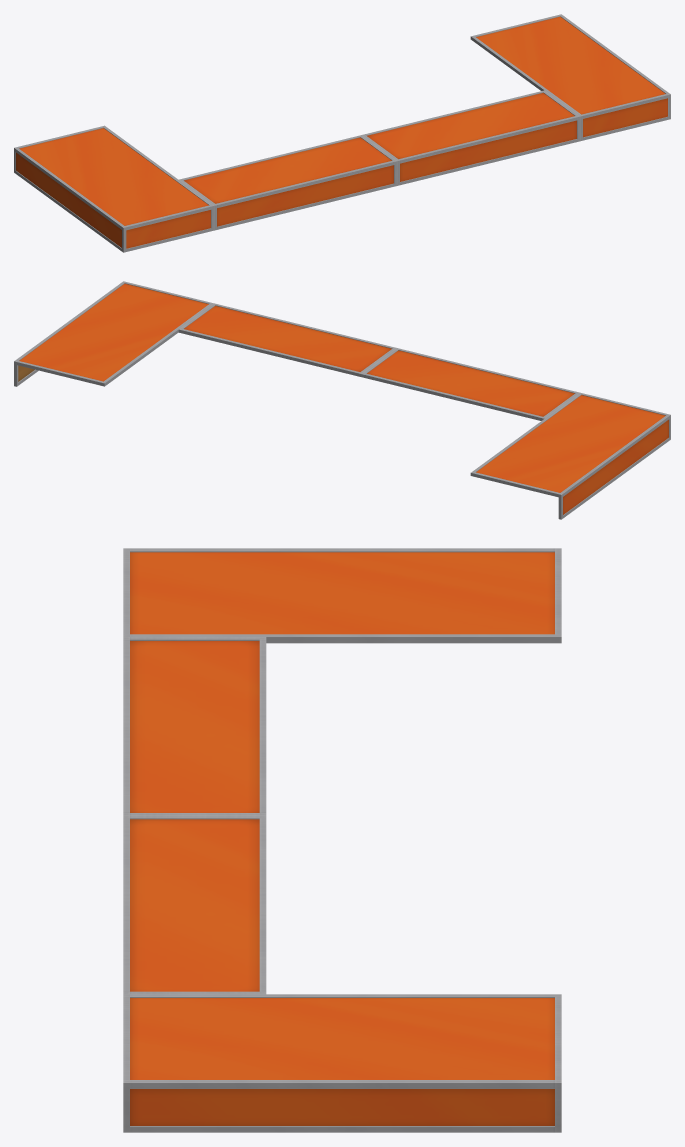
The model's file is jsf_2P_s03_c01_t04_DX.fbx.
3 renders of one model, top to bottom at view 1: azimuth 30°, elevation 25°; view 2: azimuth 150°, elevation 25°; view 3: azimuth 270°, elevation 25°, orthographic. The views are drawn at different scales.
Parts seen in each view (by area): view 1: jsf_2P_s03_c01_t04_DX; view 2: jsf_2P_s03_c01_t04_DX; view 3: jsf_2P_s03_c01_t04_DX.
Part boxes in pixels (x1,y1,x2,y2): jsf_2P_s03_c01_t04_DX: [14, 14, 670, 252]; jsf_2P_s03_c01_t04_DX: [14, 281, 670, 519]; jsf_2P_s03_c01_t04_DX: [123, 548, 561, 1132].
Size of the model in its own units: 289 by 12.51 by 100.
